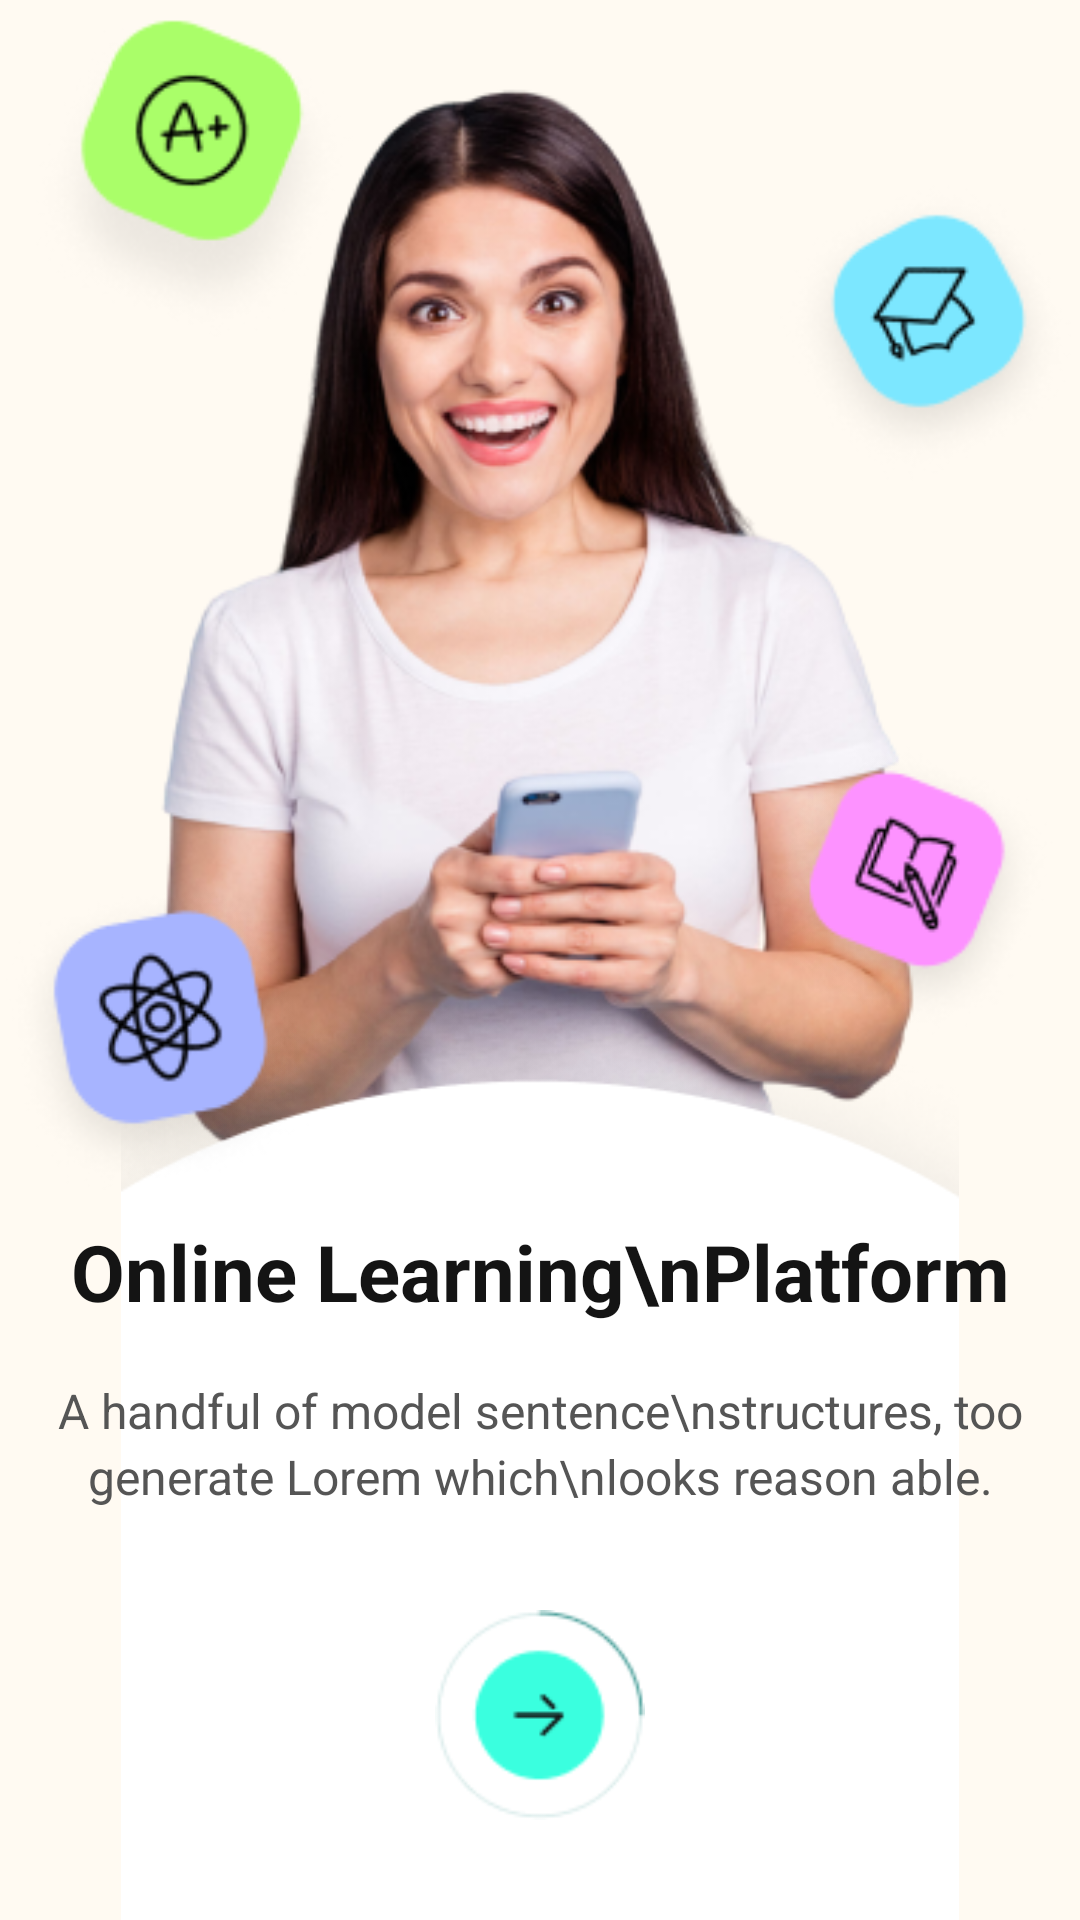

Where to tap for icons on this 1080px x 1920px app screen, as (x=x, y=y):
introbtn: (x=542, y=1713)
